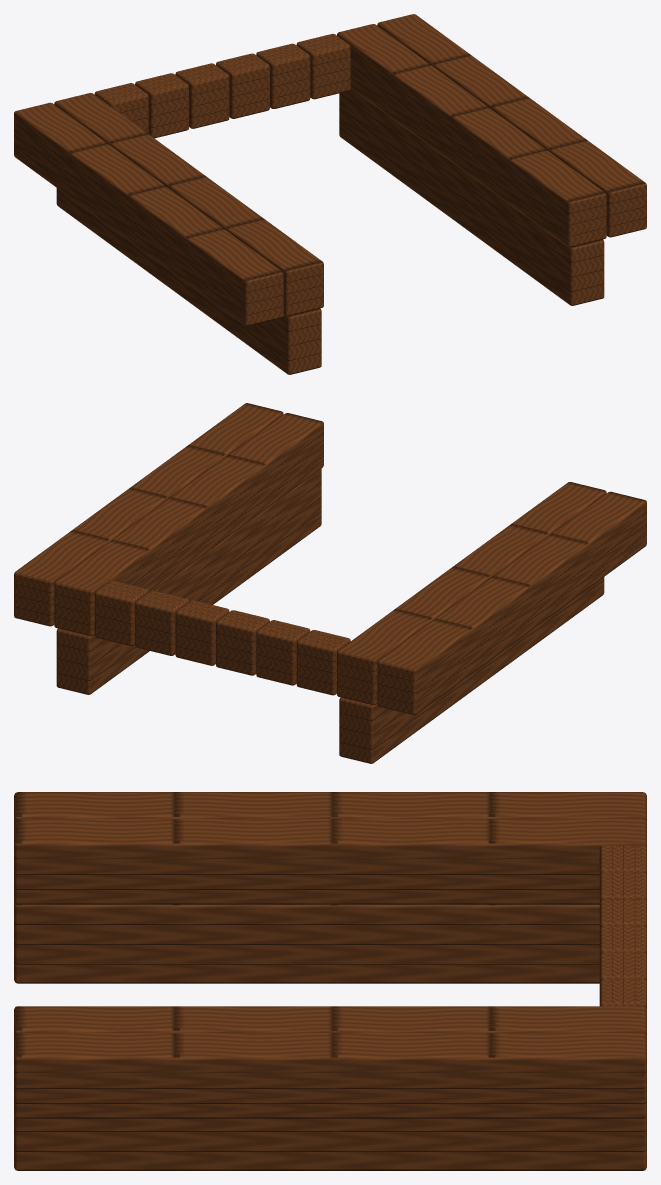
The model's file is rural-scavenging-settlements-loft-access-floor-609ee71d__26512.glb.
The picture shows the model from 3 angles, top to bottom: view 1: azimuth 30°, elevation 25°; view 2: azimuth 150°, elevation 25°; view 3: azimuth 270°, elevation 25°; orthographic projection. The views are drawn at different scales.
Visible parts, largest first — view 1: loft-access-floor; view 2: loft-access-floor; view 3: loft-access-floor.
Part boxes in pixels (x1,y1,x2,y2): loft-access-floor: (14, 14, 646, 374); loft-access-floor: (14, 403, 646, 763); loft-access-floor: (14, 792, 646, 1170).
Size of the model in its own units: 1.99 by 0.5001 by 2.
1 material, 1 textured.
